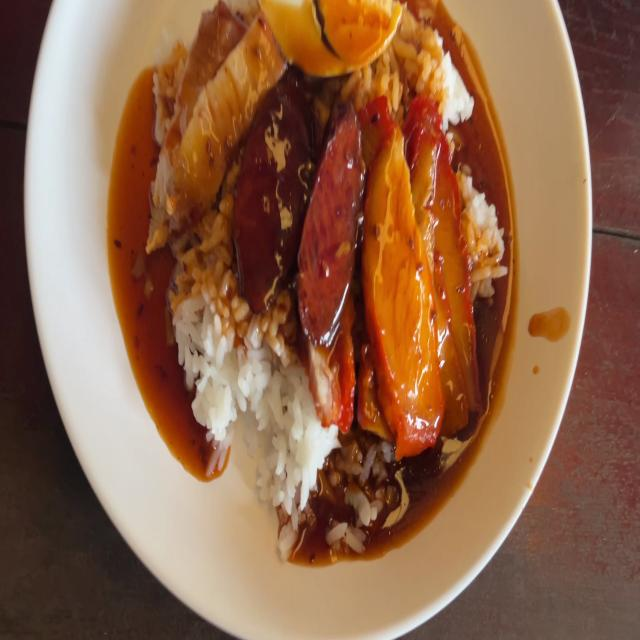01boiled_egg: (257, 0, 403, 74)
01chainese_sausage: (240, 88, 354, 332), (236, 84, 318, 299), (303, 104, 363, 323)
01crispy_pork: (146, 0, 276, 231)
01red_pork: (365, 106, 477, 437), (363, 130, 434, 430), (414, 108, 472, 436)
01red_pork_and_crispy_pork: (151, 0, 497, 532)
01rice: (247, 331, 315, 517), (185, 264, 242, 436)
